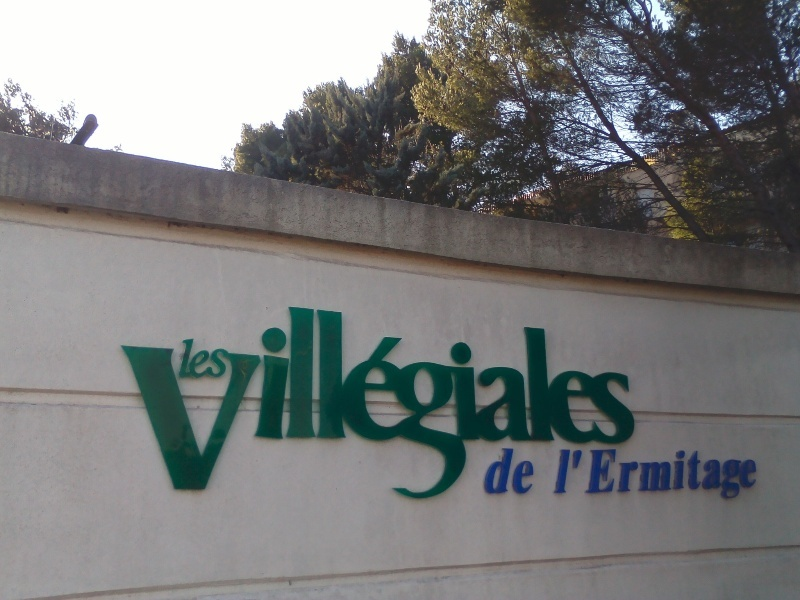text: (113, 288, 128, 543), (129, 288, 144, 543), (145, 288, 160, 543), (161, 288, 176, 543), (177, 288, 192, 543), (193, 288, 208, 543), (209, 288, 224, 543), (225, 288, 240, 543), (241, 288, 256, 543), (257, 288, 272, 543), (273, 288, 288, 543), (289, 288, 304, 543), (305, 288, 320, 543), (321, 288, 336, 543), (337, 288, 352, 543), (353, 288, 368, 543), (369, 288, 384, 543), (385, 288, 400, 543), (401, 288, 416, 543), (417, 288, 432, 543), (433, 288, 448, 543), (449, 288, 464, 543), (465, 288, 480, 543), (481, 288, 496, 543), (497, 288, 512, 543), (513, 288, 528, 543), (529, 288, 544, 543), (545, 288, 560, 543), (561, 288, 576, 543), (577, 288, 592, 543), (593, 288, 608, 543), (609, 288, 624, 543), (625, 288, 640, 543), (102, 288, 112, 543), (561, 446, 576, 501), (577, 446, 592, 501), (593, 446, 608, 501), (609, 446, 624, 501), (625, 446, 640, 501), (641, 446, 656, 501), (657, 446, 672, 501), (673, 446, 688, 501), (689, 446, 704, 501), (705, 446, 720, 501), (721, 446, 736, 501), (737, 446, 752, 501), (497, 446, 512, 497), (513, 446, 528, 497), (193, 335, 208, 382), (209, 335, 224, 382), (529, 446, 541, 497), (641, 288, 643, 543), (182, 335, 192, 382), (487, 446, 496, 497), (225, 335, 233, 382), (753, 446, 758, 501), (559, 446, 560, 501)
